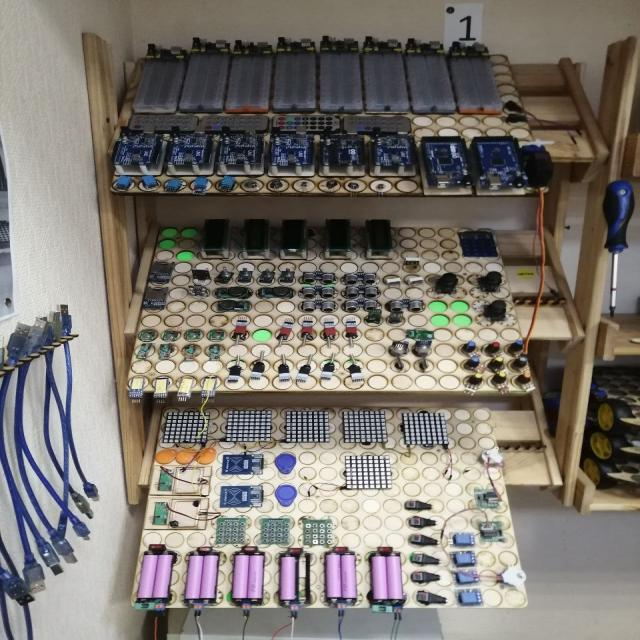Green-circles: (426, 299, 474, 326), (160, 225, 196, 250), (251, 328, 274, 342), (176, 250, 194, 262)
